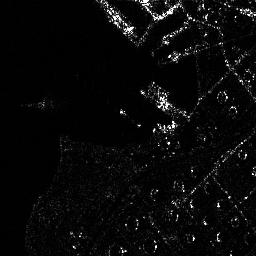ship: (96, 1, 137, 37)
